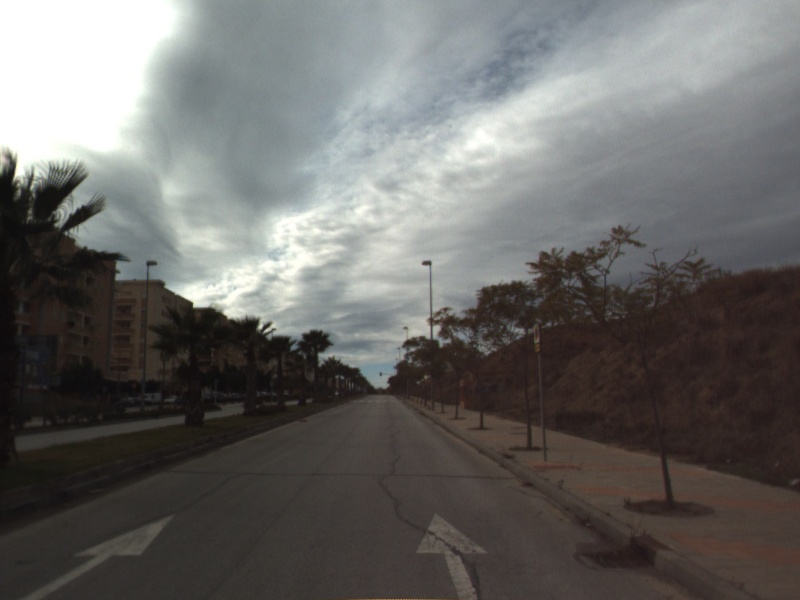STRAIGHT: (15, 511, 179, 600), (413, 510, 491, 600)
